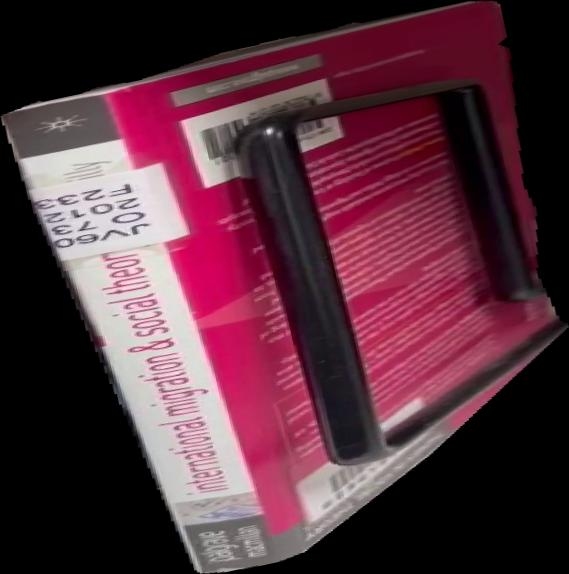reverse: (1, 1, 569, 574)
